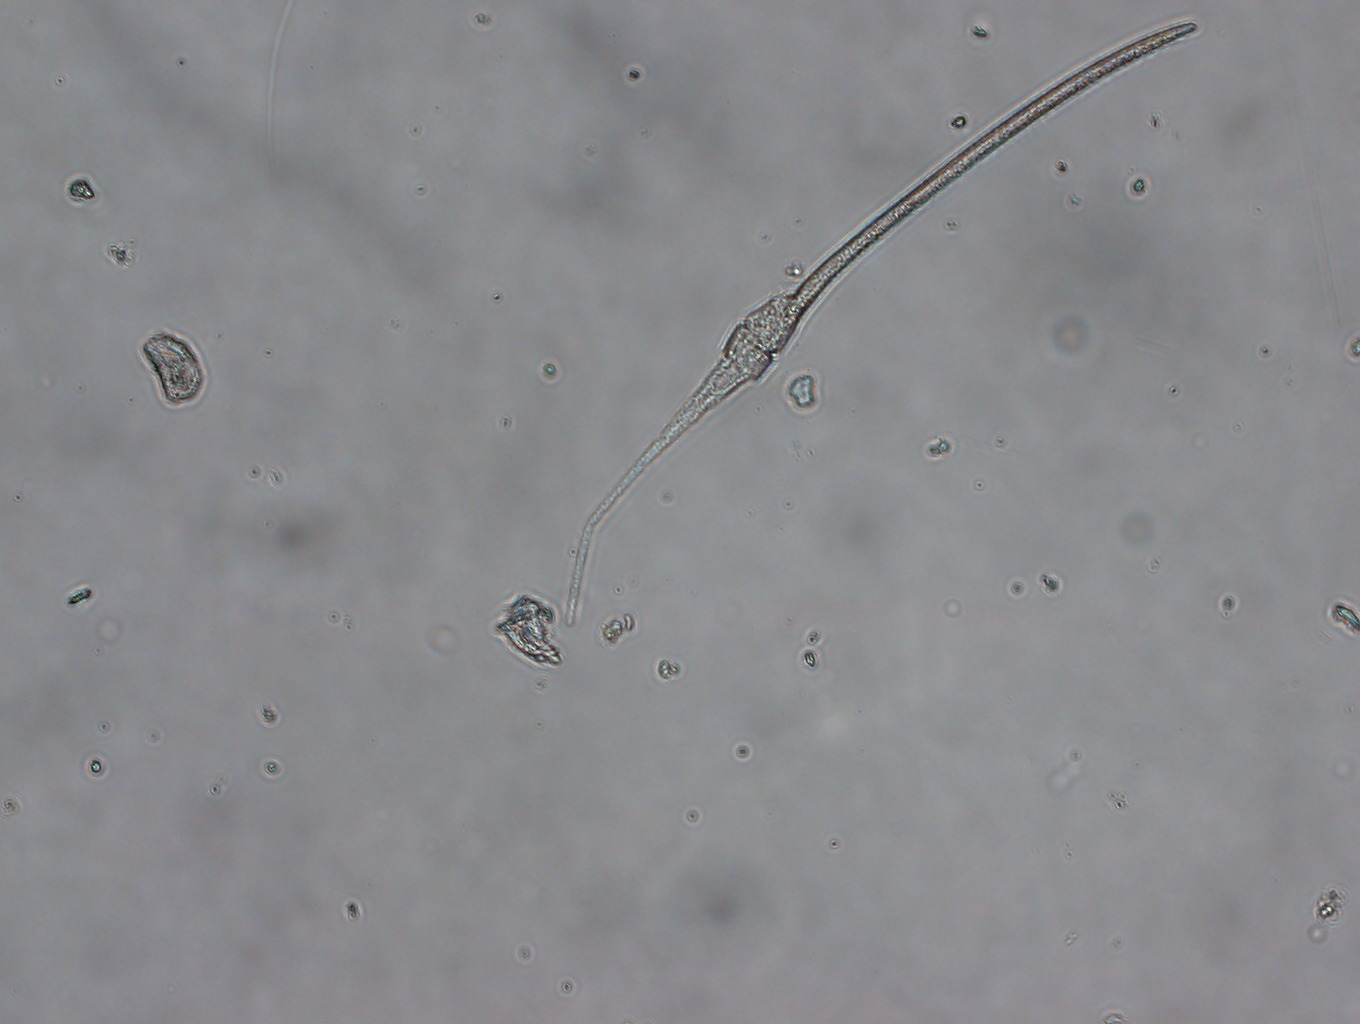ceratium fusus: (559, 9, 1202, 637)
